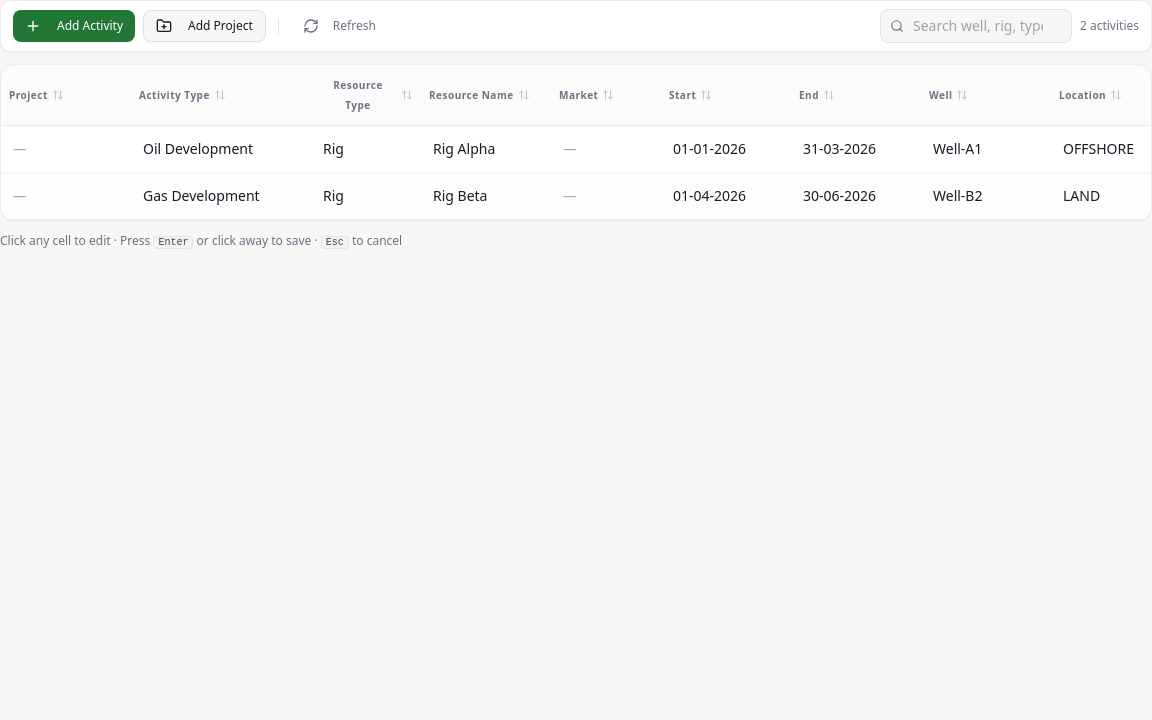
Scenario: ActivityGrid › opens Add Activity dialog when button clicked
Expected: the button "Oil Development" is shown, [135,135,307,163]
Click the button "Add Activity" at (74,26), box [13,10,135,42]
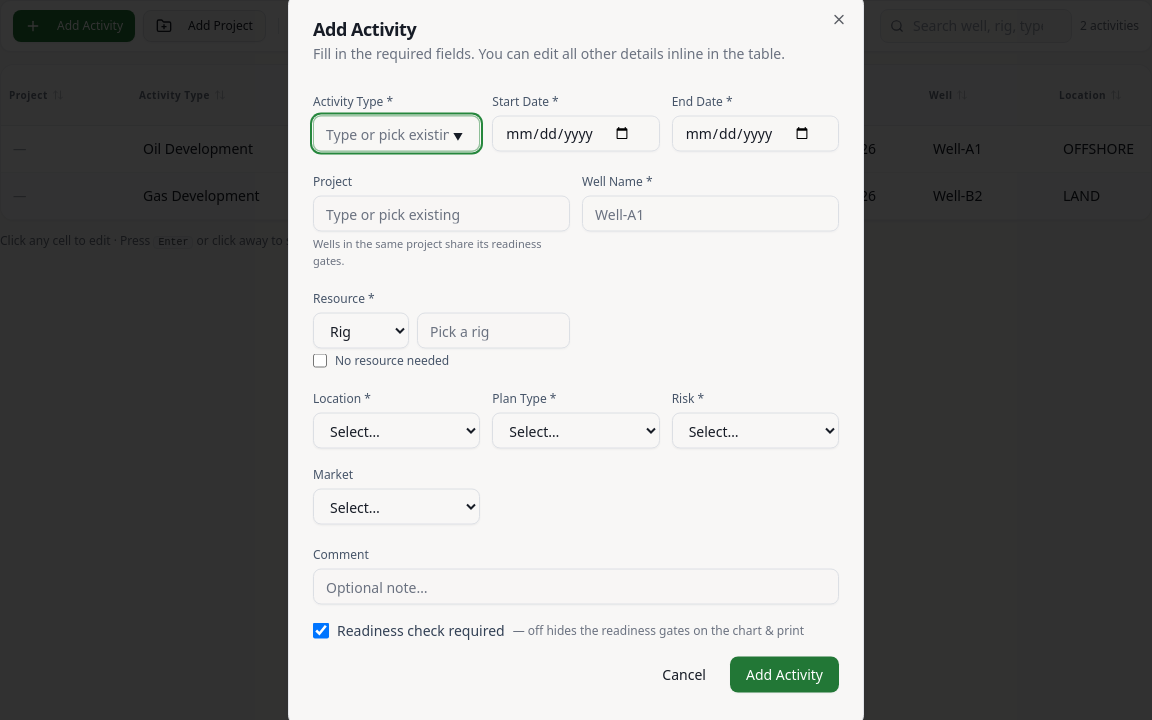
Expected: the text "Fill in the required fields" is shown, [313,44,785,62]
